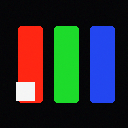1 square: (16, 82, 34, 100)
